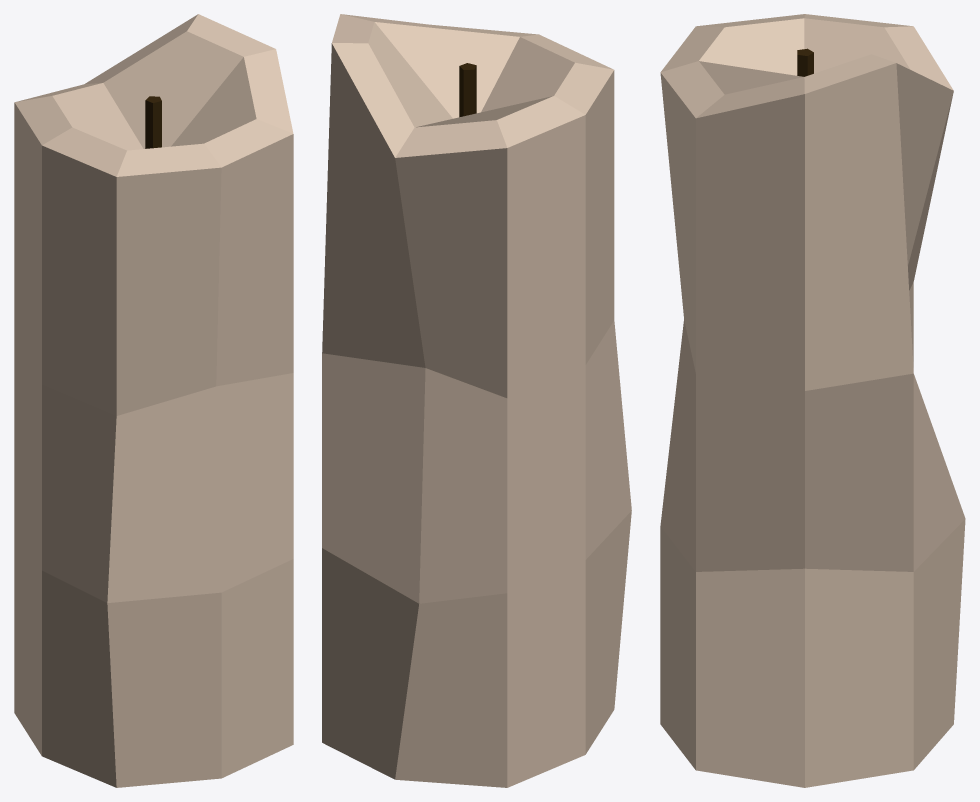
The model's file is candle.fbx.
The picture shows the model from 3 angles, left to right: view 1: azimuth 30°, elevation 25°; view 2: azimuth 150°, elevation 25°; view 3: azimuth 270°, elevation 25°; orthographic projection. The views are drawn at different scales.
Visible parts, largest first — view 1: Cylinder; view 2: Cylinder; view 3: Cylinder.
Part boxes in pixels (<box>): Cylinder: <box>14,14,293,787</box>; Cylinder: <box>322,14,631,787</box>; Cylinder: <box>660,14,965,787</box>.
Bounding box in the file's own units: 24.53 × 66.3 × 25.93.
